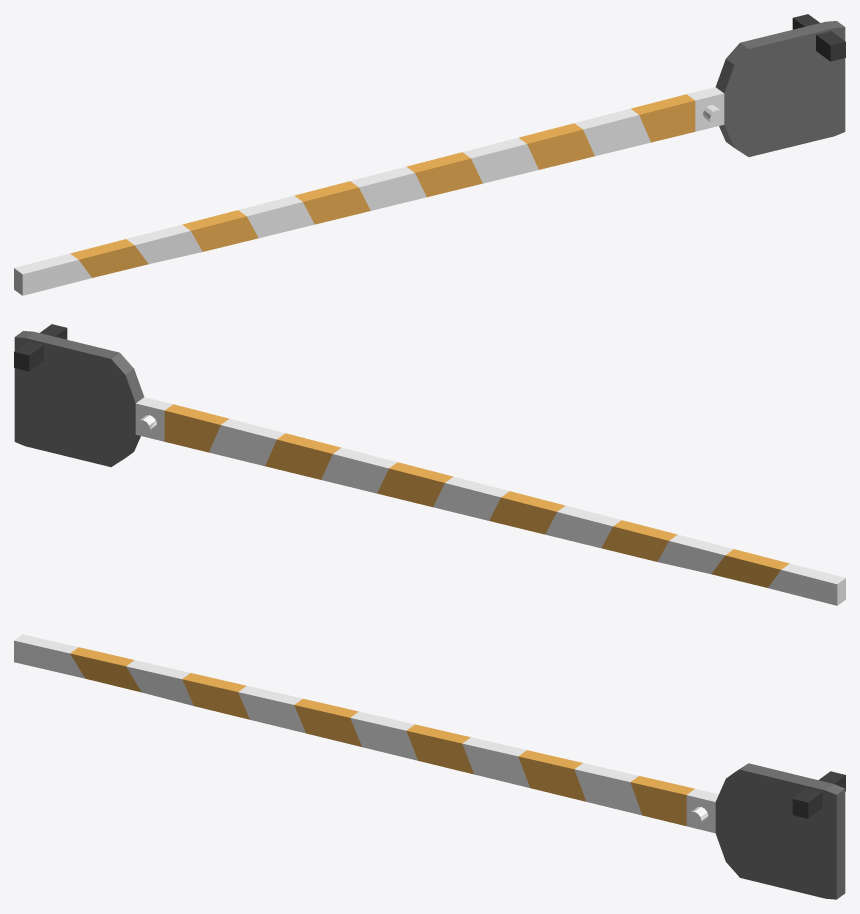
The model's file is ramp_gate_arm.glb.
3 views of the same model, one above another, from view 1: azimuth 30°, elevation 25°; view 2: azimuth 150°, elevation 25°; view 3: azimuth 330°, elevation 25° (orthographic).
Visible parts, largest first — view 1: Gate; view 2: Gate; view 3: Gate.
Part boxes in pixels (bbox=[...]): Gate: bbox=[14, 14, 845, 295]; Gate: bbox=[14, 324, 845, 605]; Gate: bbox=[14, 634, 845, 899].
Size of the model in its own units: 3.83 by 0.4814 by 0.3048.
1 material, 1 textured.
